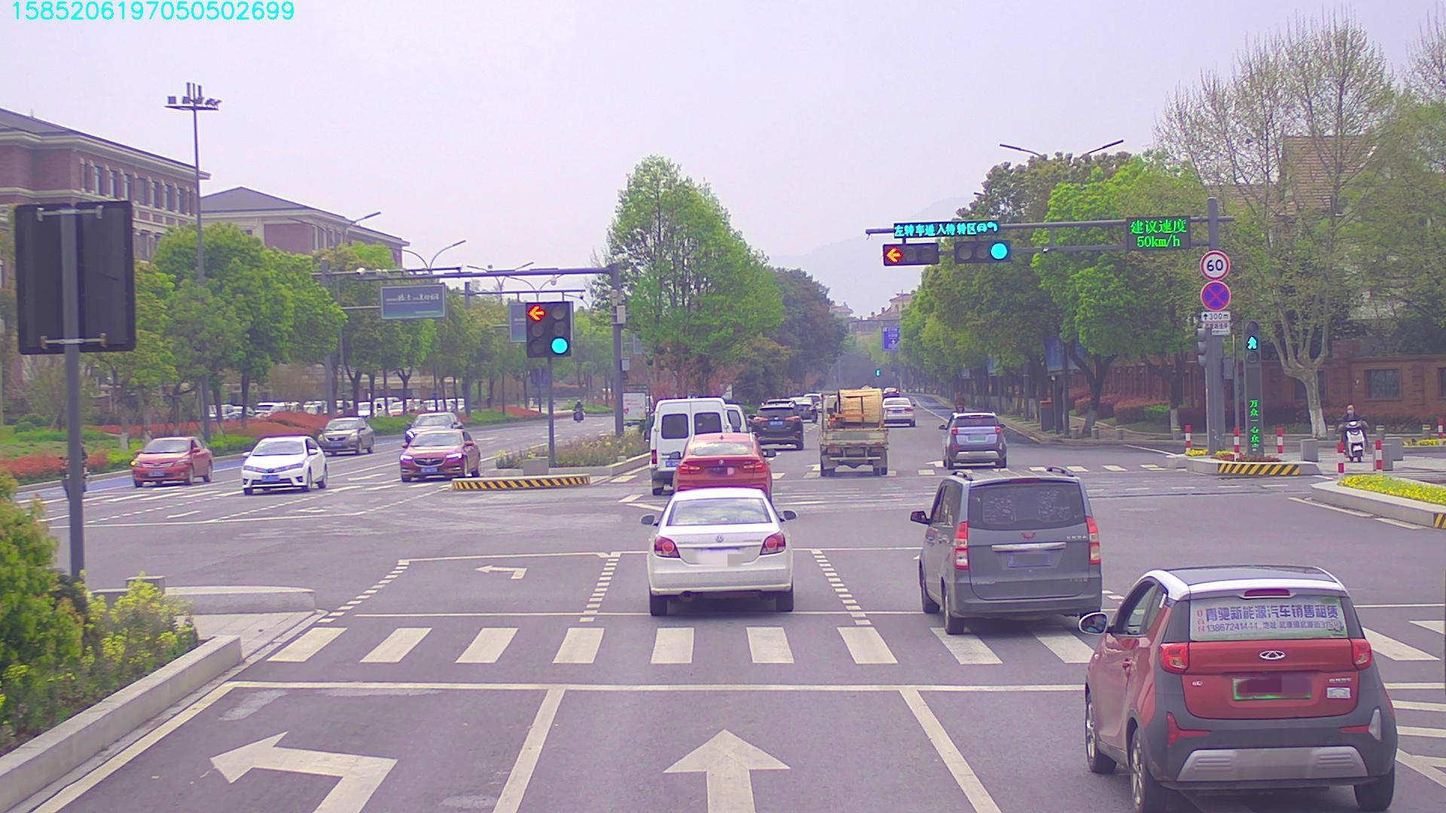green: (961, 245, 1008, 266)
red: (882, 242, 939, 268)
wait_on: (895, 224, 997, 238)
